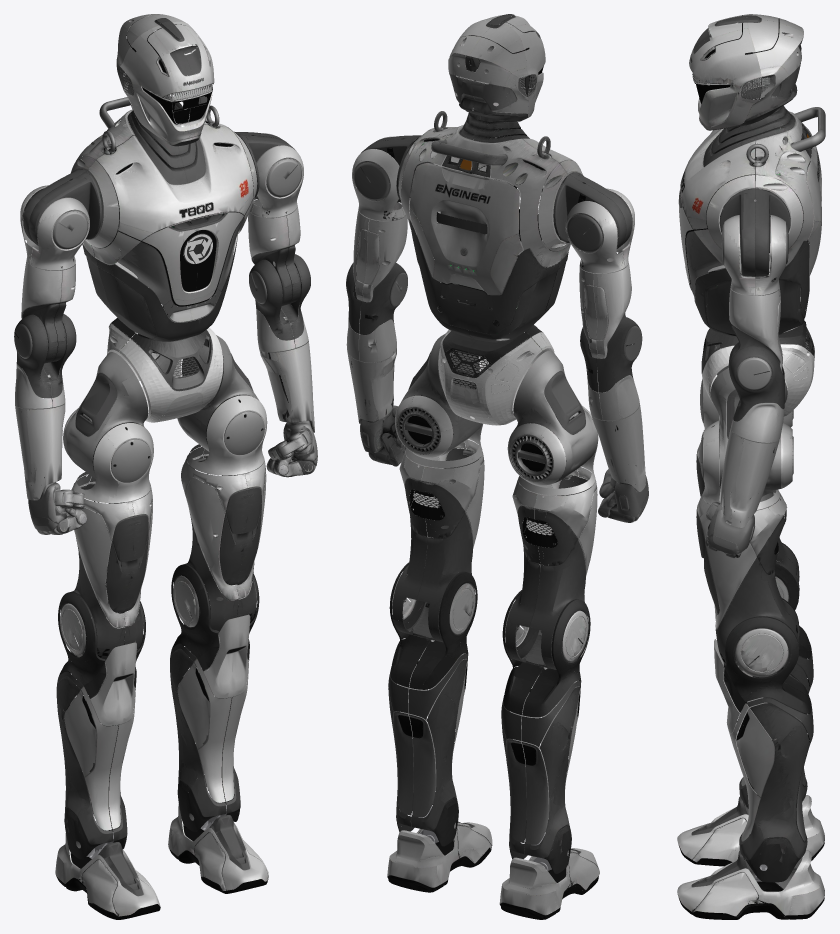
Rendered from fabrica_t800.glb.
3 renders of one model, left to right at view 1: azimuth 30°, elevation 25°; view 2: azimuth 150°, elevation 25°; view 3: azimuth 270°, elevation 25°, orthographic.
Visible parts, largest first — view 1: pecho_P01, muslo_L_P03, bota_R_P01, muslo_R_P05, bota_L_P01, cadera_P02, casco_P01, espinillera_L_P08, espinillera_L_P05, espinillera_R_P05, espinillera_R_P09, articulacion_L_P03 (+63 smaller); view 2: mochila_P03, mochila_P13, muslo_R_P05, muslo_L_P03, bota_L_P01, espinillera_L_P08, bota_R_P01, cadera_R_P03, sinforrar_waist_yaw, cadera_P08, mochila_P16, muslo_L_P05 (+69 smaller); view 3: muslo_L_P05, bota_L_P01, pecho_P01, espinillera_L_P09, bota_R_P01, casco_P03, sinforrar_waist_yaw, brazo_L_P09, antebrazo_L_P05, mochila_P16, espinillera_L_P04, sinforrar_knee_pitch_l (+57 smaller).
Boxes of the visible parts, x1,y1,x2,y2 form: pecho_P01: (88,124,253,322); muslo_L_P03: (181,455,247,631); bota_R_P01: (55,841,160,919); muslo_R_P05: (60,482,134,659); bota_L_P01: (168,809,268,893); cadera_P02: (128,333,222,417); casco_P01: (120,36,194,146); espinillera_L_P08: (170,649,226,831); espinillera_L_P05: (197,614,250,698); espinillera_R_P05: (84,642,136,725); espinillera_R_P09: (56,677,113,859); articulacion_L_P03: (190,395,265,475); mochila_P03: (409,163,519,294); mochila_P13: (466,141,558,334); muslo_R_P05: (529,467,597,669); muslo_L_P03: (421,439,484,642); bota_L_P01: (387,821,492,892); espinillera_L_P08: (411,659,467,846); bota_R_P01: (499,848,599,919); cadera_R_P03: (513,350,597,483); sinforrar_waist_yaw: (409,111,567,340); cadera_P08: (468,332,541,425); mochila_P16: (401,132,472,329); muslo_L_P05: (392,442,465,638); muslo_L_P05: (697,498,799,677); bota_L_P01: (677,850,824,919); pecho_P01: (678,128,754,333); espinillera_L_P09: (739,703,800,882); bota_R_P01: (677,795,824,866); casco_P03: (689,17,761,87); sinforrar_waist_yaw: (689,96,821,332); brazo_L_P09: (728,288,782,370); antebrazo_L_P05: (730,439,779,527); mochila_P16: (775,121,813,318); espinillera_L_P04: (736,708,774,796); sinforrar_knee_pitch_l: (723,633,811,862).
Bounding box in the file's own units: 0.6065 × 1.74 × 0.2704.
Materials: 83 (80 with a texture image).
